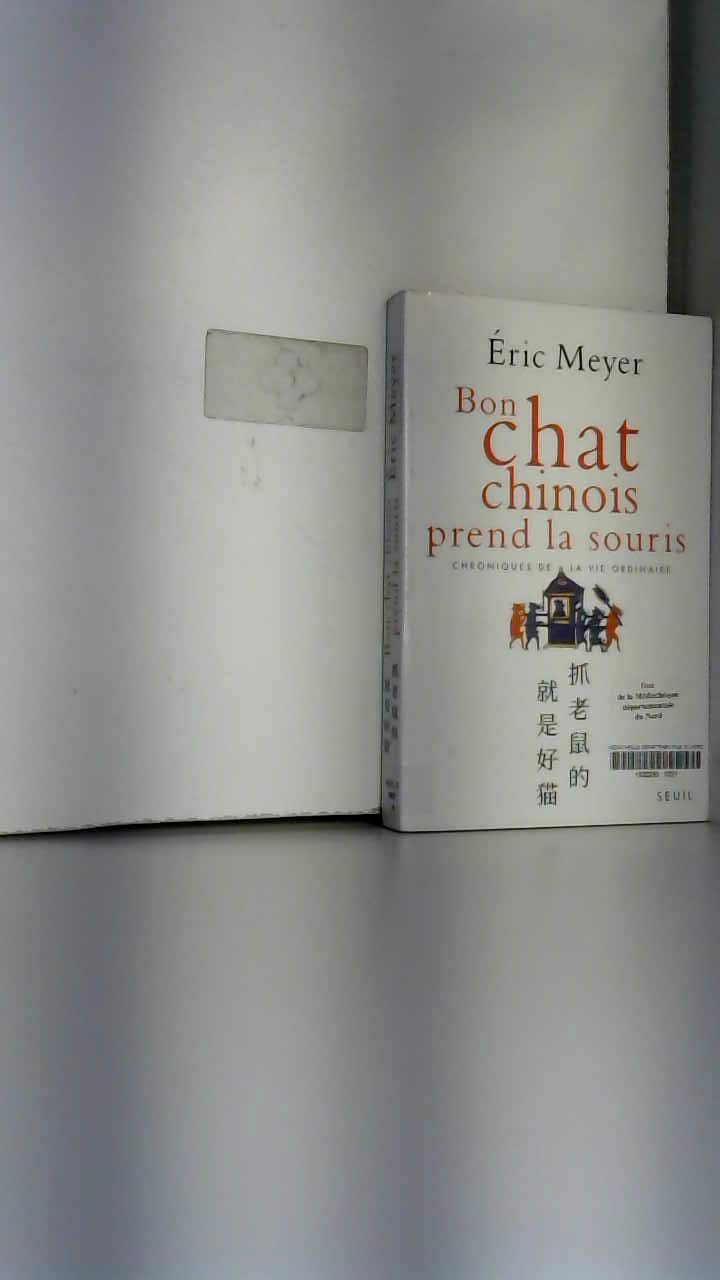book: (353, 254, 720, 877)
